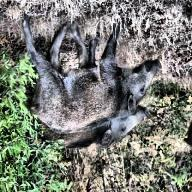boar: (34, 2, 171, 160), (56, 100, 152, 161)
